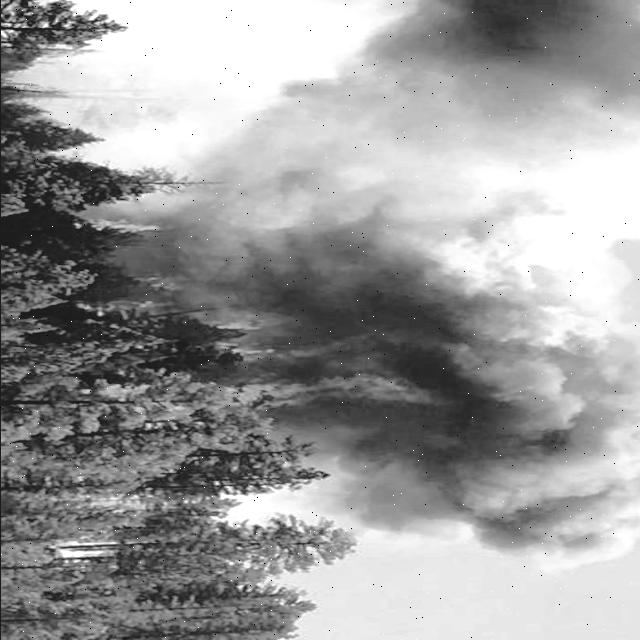api: (71, 369, 449, 416), (74, 298, 293, 336), (214, 340, 412, 367), (70, 212, 172, 240), (122, 269, 196, 299)
asap: (158, 1, 640, 563)
